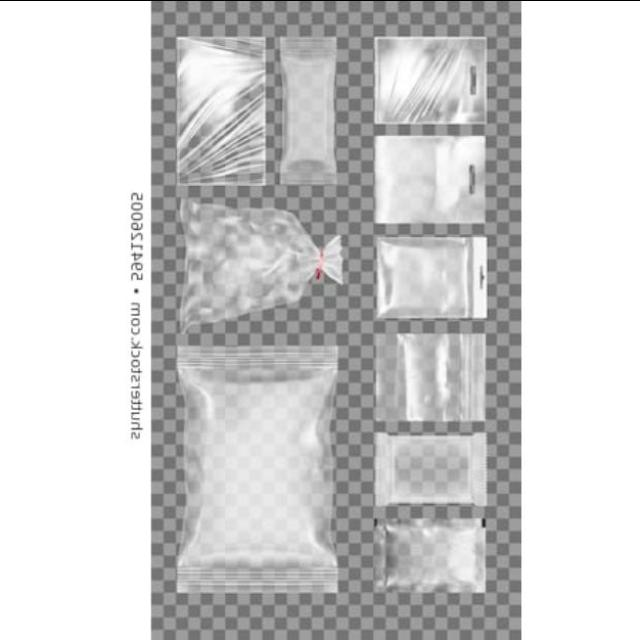plastik: (178, 346, 337, 591), (180, 199, 342, 330), (178, 37, 265, 184), (375, 135, 486, 222), (375, 37, 486, 122), (376, 333, 484, 419), (376, 236, 487, 318), (279, 37, 336, 182), (375, 517, 486, 591), (376, 431, 487, 504)
